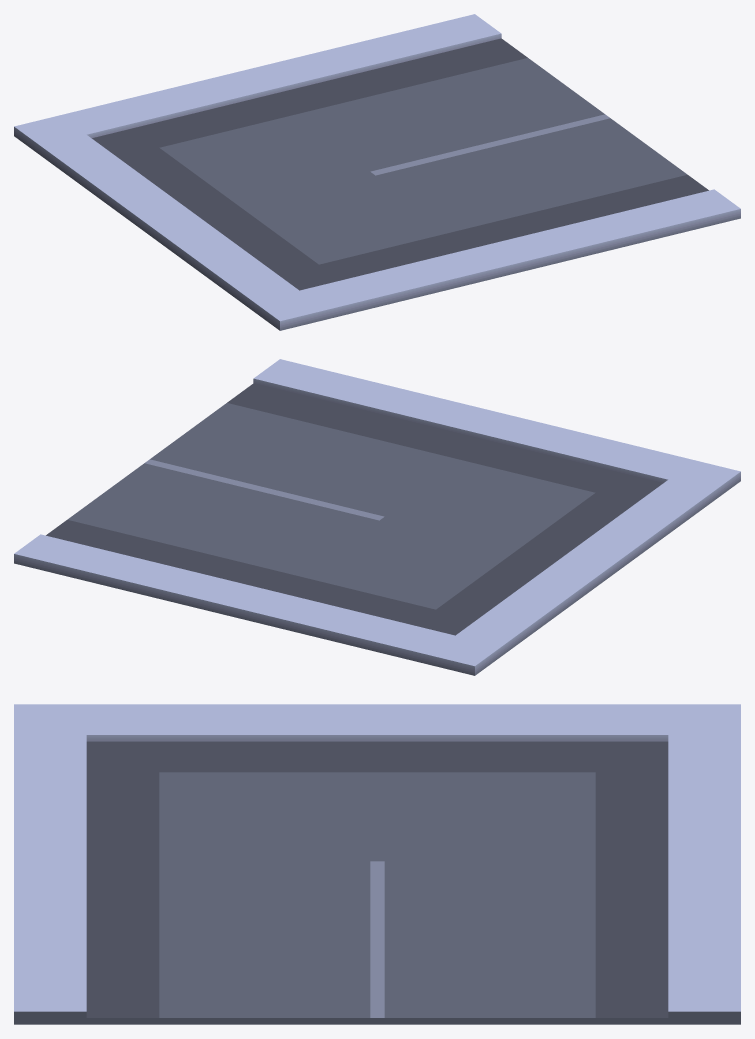
The model's file is road-end.glb.
The picture shows the model from 3 angles, top to bottom: view 1: azimuth 30°, elevation 25°; view 2: azimuth 150°, elevation 25°; view 3: azimuth 270°, elevation 25°; orthographic projection. The views are drawn at different scales.
Visible parts, largest first — view 1: road-end; view 2: road-end; view 3: road-end.
Boxes of the visible parts, left/top/right/bottom form: road-end: left=14, top=14, right=740, bottom=330; road-end: left=14, top=359, right=740, bottom=675; road-end: left=14, top=704, right=740, bottom=1024.
Bounding box in the file's own units: 1 × 0.02 × 1.
Materials: 1 (1 with a texture image).
